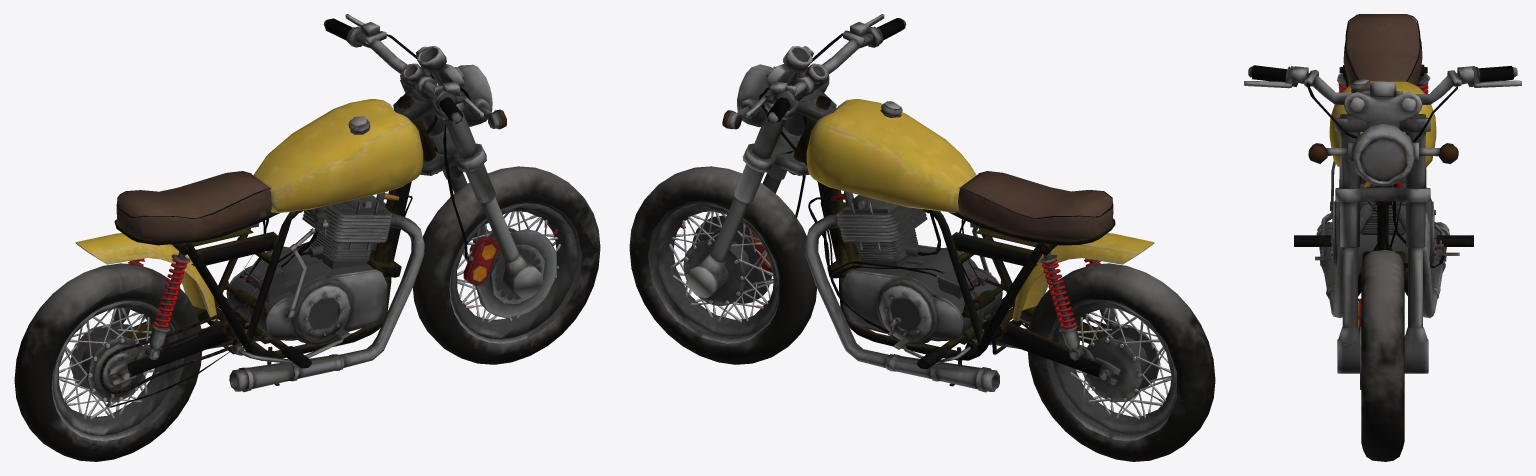
Rendered from motorcycle.glb.
3 renders of one model, left to right at view 1: azimuth 30°, elevation 25°; view 2: azimuth 150°, elevation 25°; view 3: azimuth 270°, elevation 25°, orthographic. The views are drawn at different scales.
Visible parts, largest first — view 1: Cube.042_Material.008_0_4, Cube.042_Material.008_0_5; view 2: Cube.042_Material.008_0_4, Cube.042_Material.008_0_5; view 3: Cube.042_Material.008_0_4.
Boxes of the visible parts, box(x1,y1,x2,y2) form: Cube.042_Material.008_0_4: box(14, 14, 600, 461); Cube.042_Material.008_0_5: box(59, 228, 557, 419); Cube.042_Material.008_0_4: box(629, 14, 1215, 461); Cube.042_Material.008_0_5: box(669, 232, 1171, 419); Cube.042_Material.008_0_4: box(1244, 14, 1521, 461).
Bounding box in the file's own units: 2.2 × 1.2 × 0.8957.
1 material, 1 textured.
